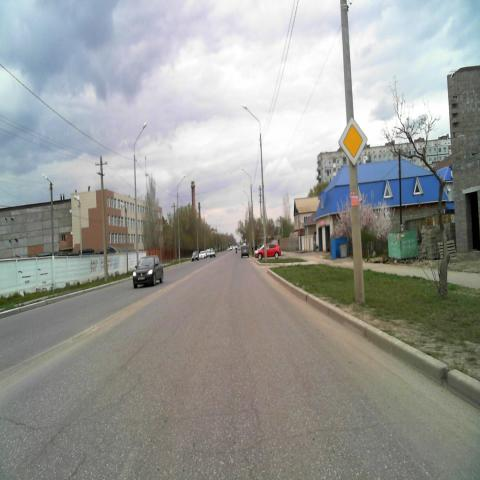2_1: (338, 117, 369, 167)
